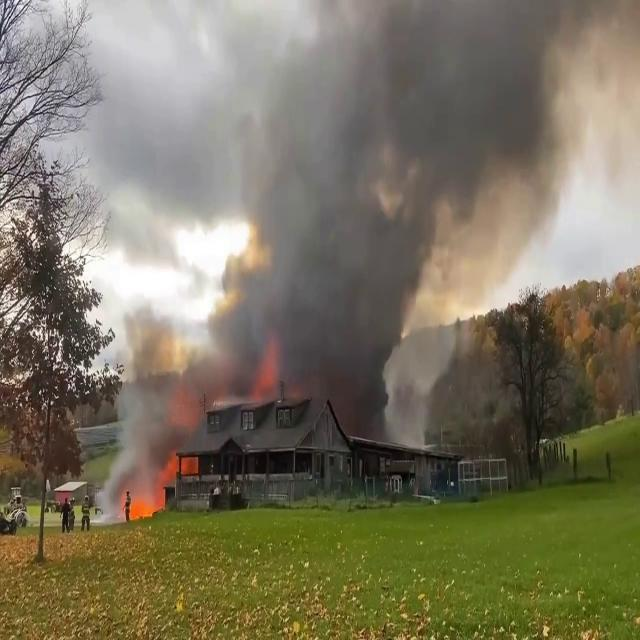Fire: (116, 482, 170, 526)
Smoke: (212, 0, 576, 396), (98, 298, 226, 468)
